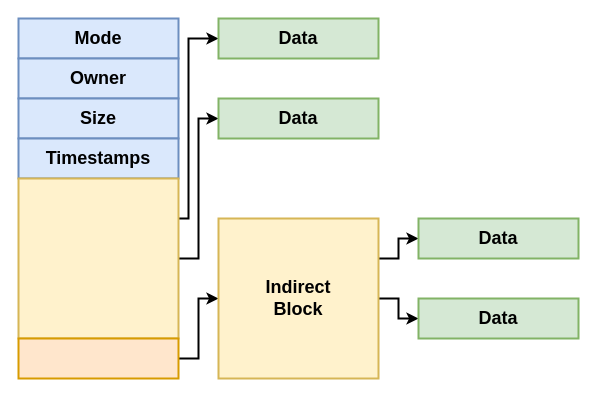
Some shapes in this 596 by 396 pixel diagram are drawn without their labels. Here are the shapes that lost their labels. From the top down, the centre of each, then its label:
At point 98,258: "Direct Blocks".
At point 98,358: "Indirect".
